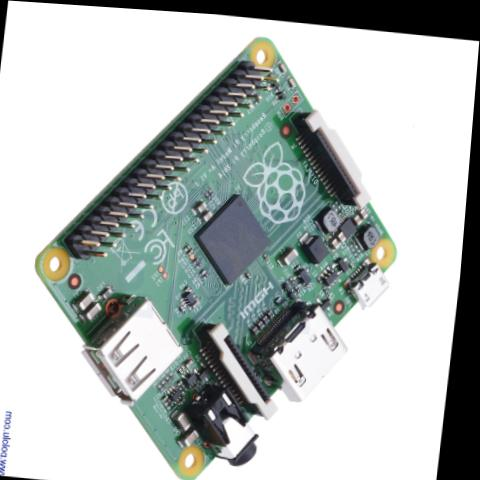Raspberry-Pi-1-Model-A-: (6, 2, 434, 480)
